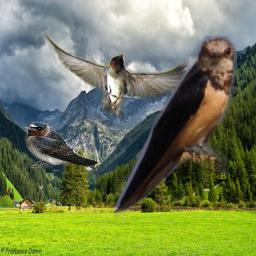Swallow: (114, 36, 237, 218), (41, 31, 191, 121), (23, 121, 99, 171)
